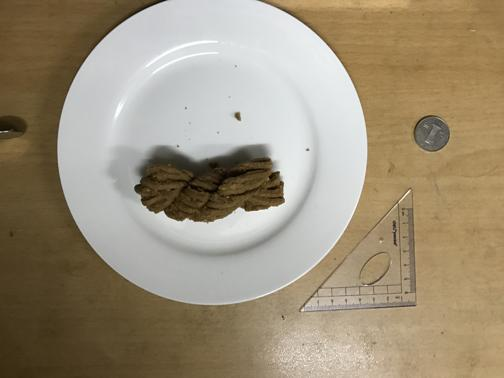coin: (412, 113, 450, 153)
fired_dough_twist: (135, 164, 285, 222)
